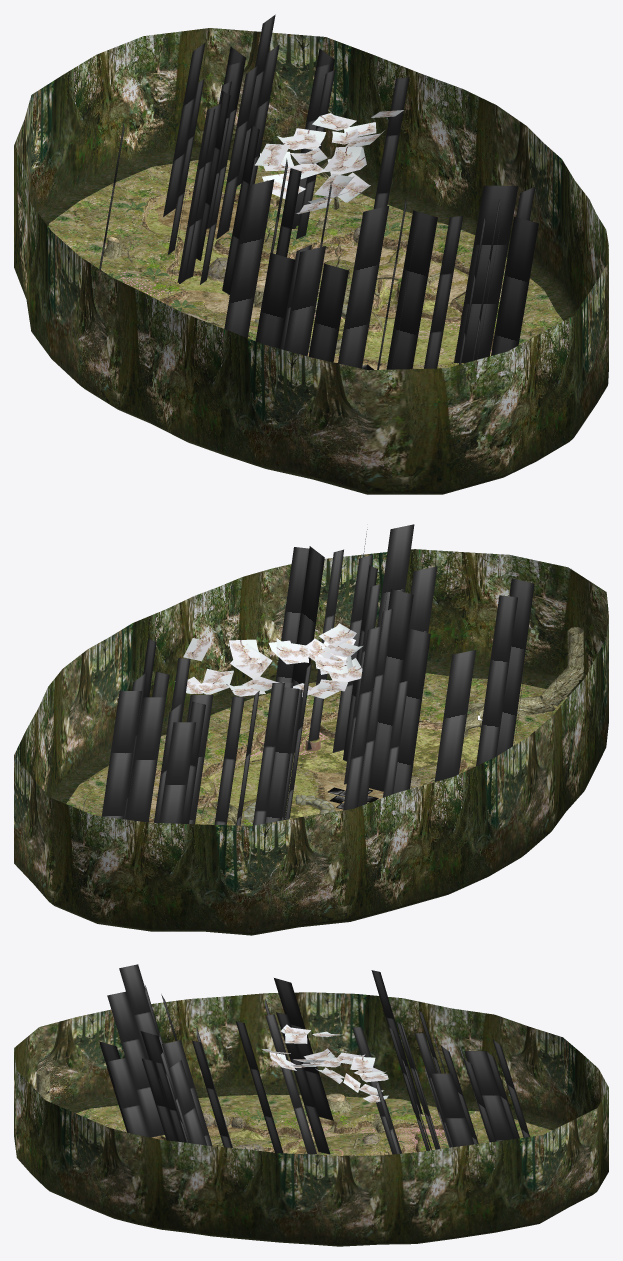
The model's file is Awakening Wood.DAE.
The picture shows the model from 3 angles, top to bottom: view 1: azimuth 30°, elevation 25°; view 2: azimuth 150°, elevation 25°; view 3: azimuth 270°, elevation 25°; orthographic projection. The views are drawn at different scales.
Visible parts, largest first — view 1: n1b35, n36b36, n0b18, n19b37, n10b21, n3b2, n11b24, n24b22, n23b6, n31b14, n18b33, n28b16; view 2: n1b35, n36b36, n19b37, n0b18, n2b1, n10b21, n16b31, n3b2, n24b22, n5b5, n15b29; view 3: n1b35, n36b36, n0b18, n10b21, n19b37, n16b31, n7b10, n5b5, n24b22.
Boxes of the visible parts, left/top/right/bottom form: n1b35: left=14, top=28, right=608, bottom=494; n36b36: left=99, top=14, right=538, bottom=369; n0b18: left=48, top=160, right=563, bottom=344; n19b37: left=255, top=110, right=403, bottom=214; n10b21: left=132, top=183, right=520, bottom=350; n3b2: left=146, top=197, right=459, bottom=364; n11b24: left=206, top=245, right=467, bottom=322; n24b22: left=165, top=204, right=468, bottom=368; n23b6: left=154, top=200, right=379, bottom=316; n31b14: left=108, top=184, right=400, bottom=311; n18b33: left=123, top=146, right=439, bottom=337; n28b16: left=136, top=179, right=499, bottom=318; n1b35: left=14, top=549, right=608, bottom=935; n36b36: left=102, top=524, right=571, bottom=825; n19b37: left=175, top=623, right=362, bottom=698; n0b18: left=66, top=673, right=567, bottom=825; n2b1: left=200, top=721, right=480, bottom=818; n10b21: left=101, top=706, right=523, bottom=822; n16b31: left=464, top=627, right=583, bottom=737; n3b2: left=211, top=764, right=314, bottom=808; n24b22: left=148, top=719, right=480, bottom=822; n5b5: left=315, top=773, right=383, bottom=811; n15b29: left=243, top=795, right=335, bottom=825; n1b35: left=14, top=992, right=608, bottom=1246; n36b36: left=99, top=964, right=529, bottom=1154; n0b18: left=76, top=1094, right=551, bottom=1155; n10b21: left=119, top=1110, right=446, bottom=1155; n19b37: left=262, top=1024, right=388, bottom=1102; n16b31: left=36, top=1070, right=351, bottom=1113; n7b10: left=203, top=1114, right=379, bottom=1151; n5b5: left=395, top=1128, right=444, bottom=1153; n24b22: left=159, top=1123, right=443, bottom=1155.
Bounding box in the file's own units: 4237 × 6511 × 1956.
Materials: 38 (38 with a texture image).
